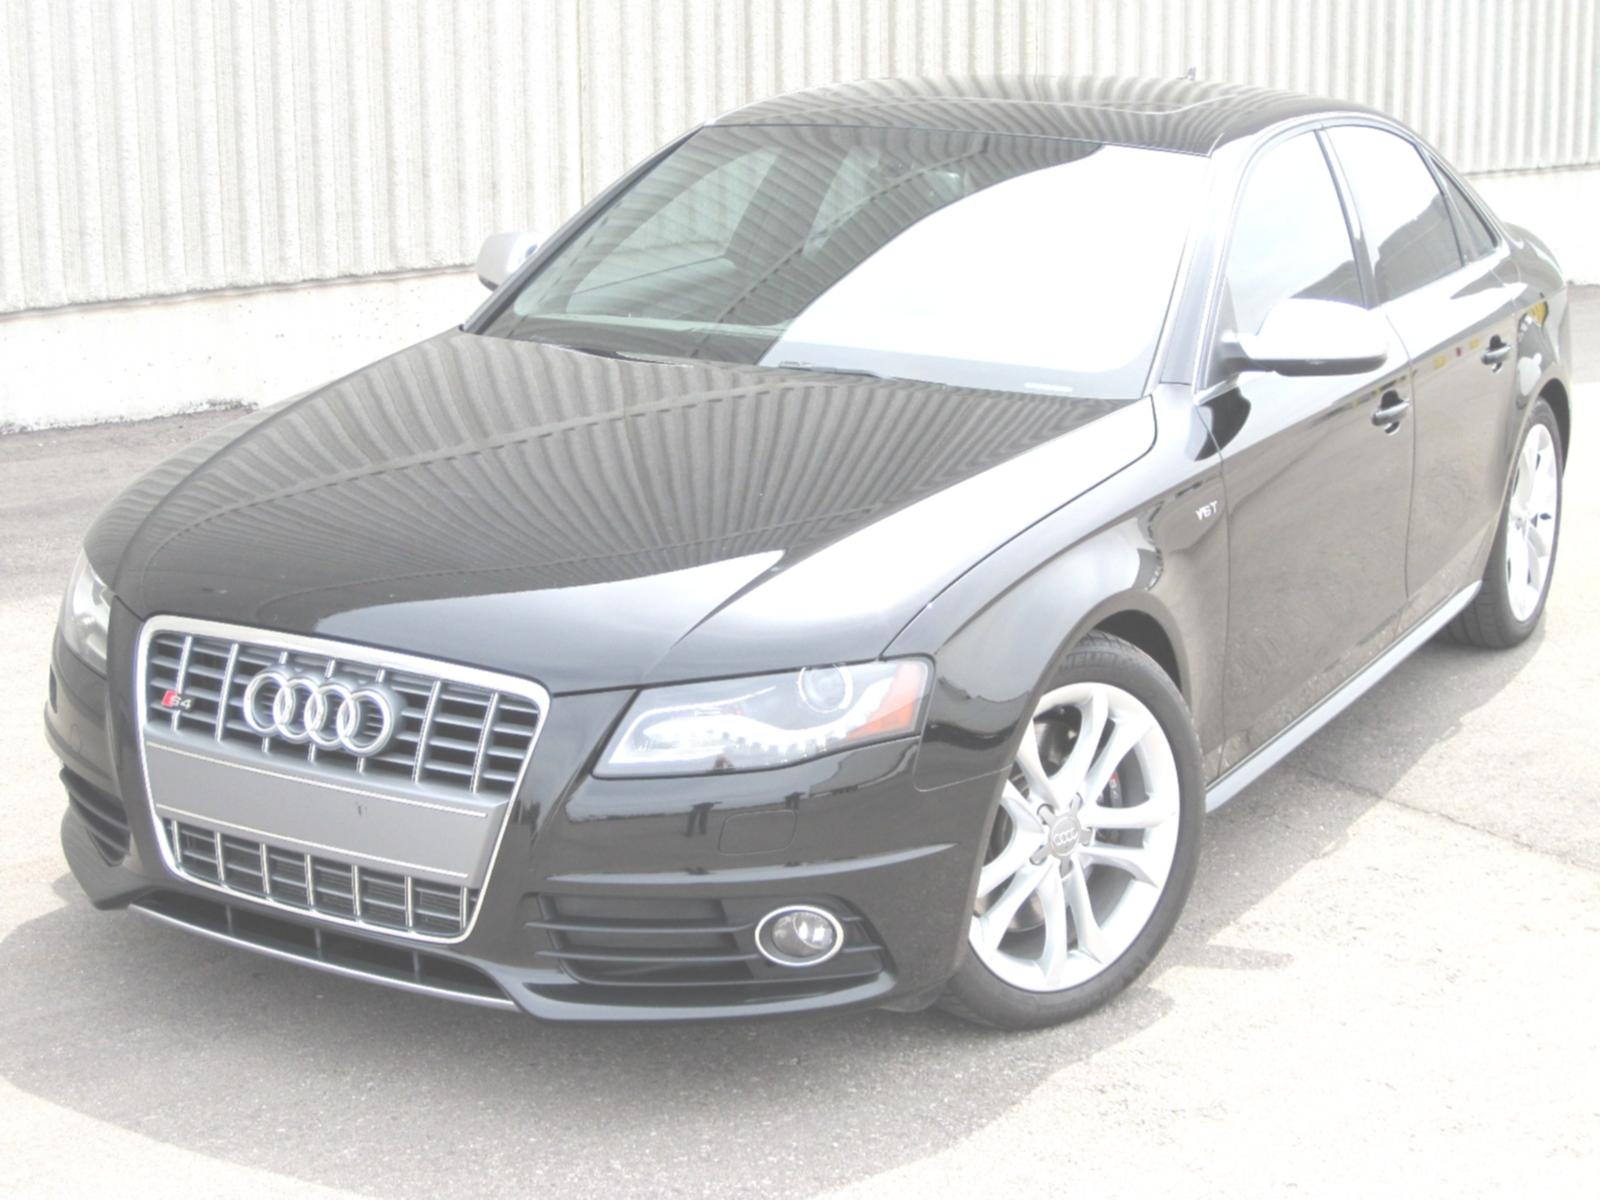Audi: (226, 640, 427, 800)
